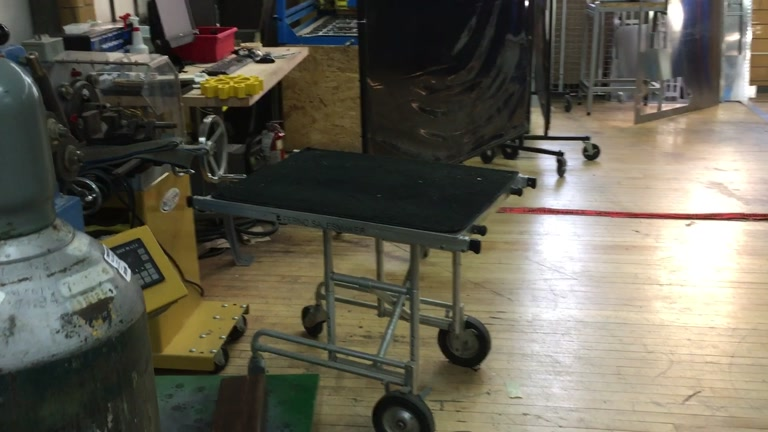gear: (200, 73, 264, 100)
